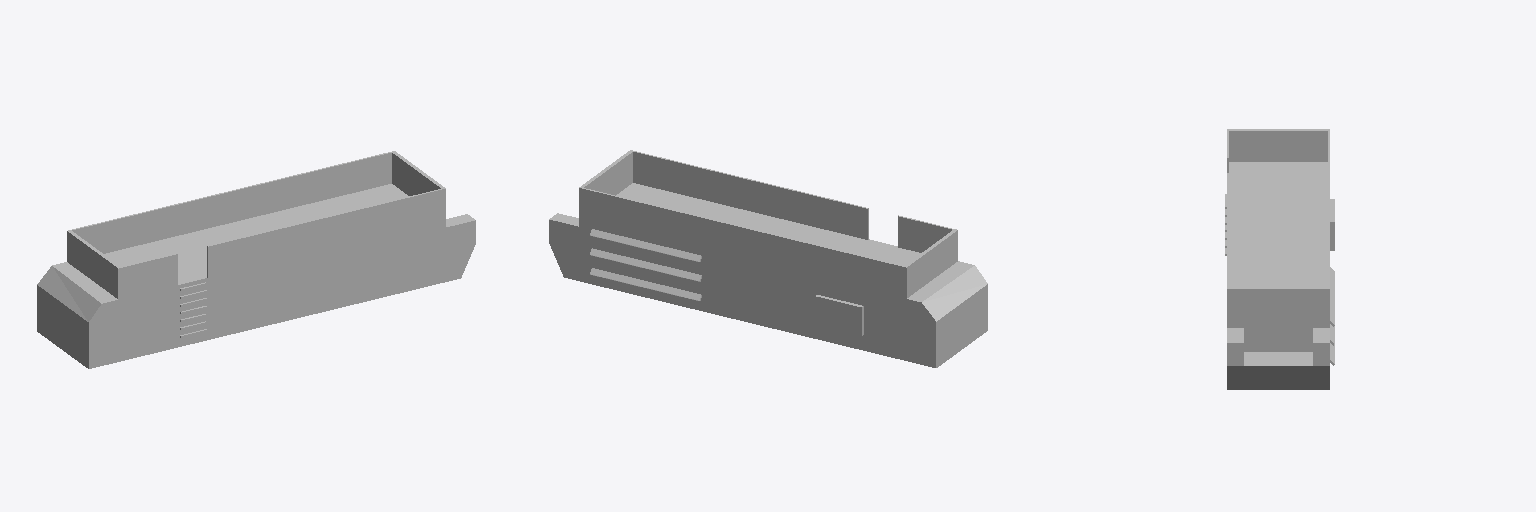
File: electric_food_oven.obj
The picture shows the model from 3 angles: view 1: azimuth 30°, elevation 25°; view 2: azimuth 150°, elevation 25°; view 3: azimuth 270°, elevation 25°; orthographic projection.
Parts seen in each view (by area): view 1: cube; view 2: cube; view 3: cube.
Part boxes in pixels (bbox=[...]): cube: bbox=[37, 151, 475, 368]; cube: bbox=[549, 150, 987, 367]; cube: bbox=[1225, 129, 1334, 389].
Bounding box in the file's own units: 13 × 3 × 3.19.